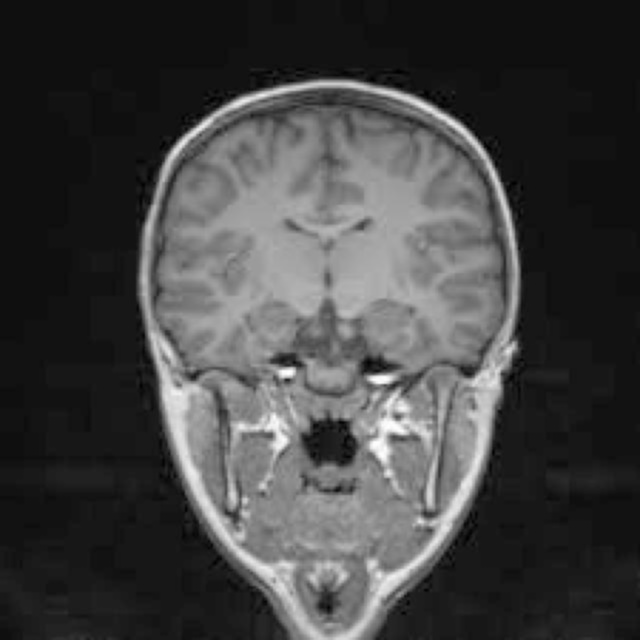glioma tumor: (185, 133, 486, 390)
